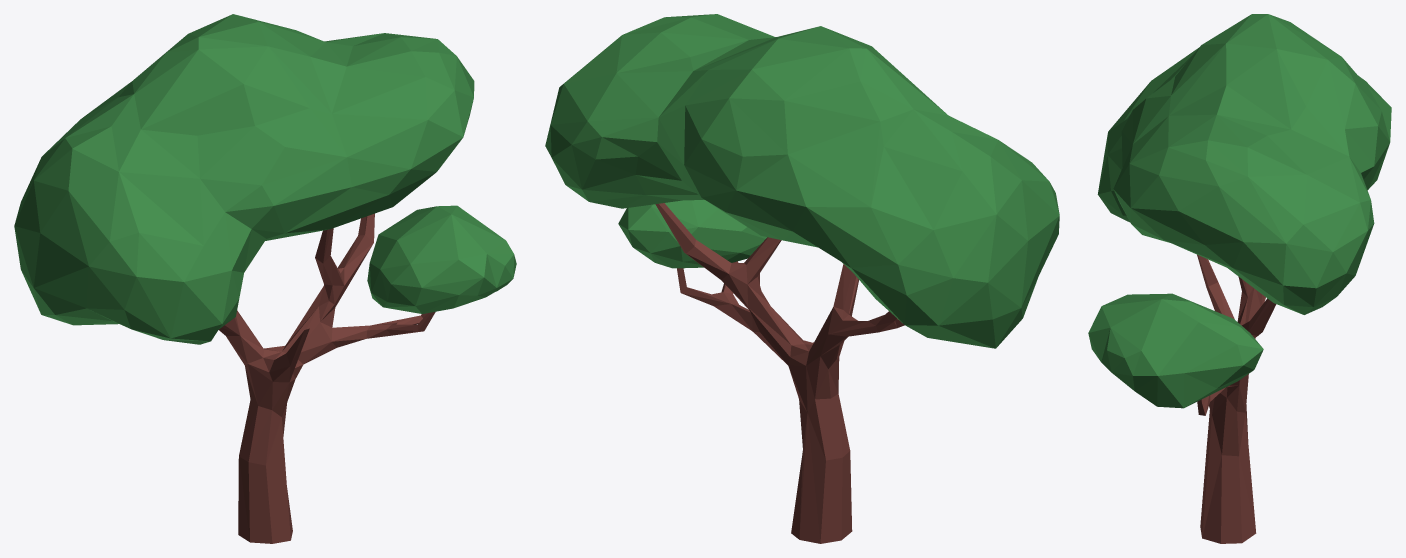
The model's file is Tree05.fbx.
3 views of the same model, side by side, from view 1: azimuth 30°, elevation 25°; view 2: azimuth 150°, elevation 25°; view 3: azimuth 270°, elevation 25° (orthographic). The views are drawn at different scales.
Parts seen in each view (by area): view 1: Tree_05; view 2: Tree_05; view 3: Tree_05.
Boxes of the visible parts, <box> form: Tree_05: <box>14,14,516,543</box>; Tree_05: <box>545,14,1059,543</box>; Tree_05: <box>1088,14,1391,543</box>.
Bounding box in the file's own units: 542 × 578 × 321.
